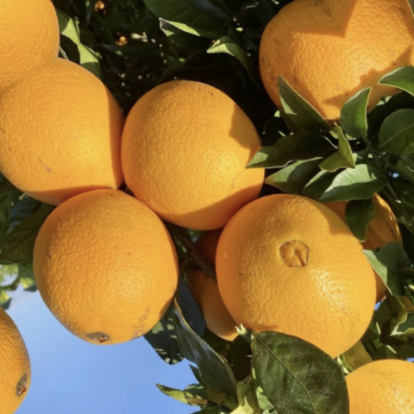orange: (171, 160, 414, 408), (89, 50, 307, 271), (0, 166, 207, 377), (0, 32, 180, 256)
